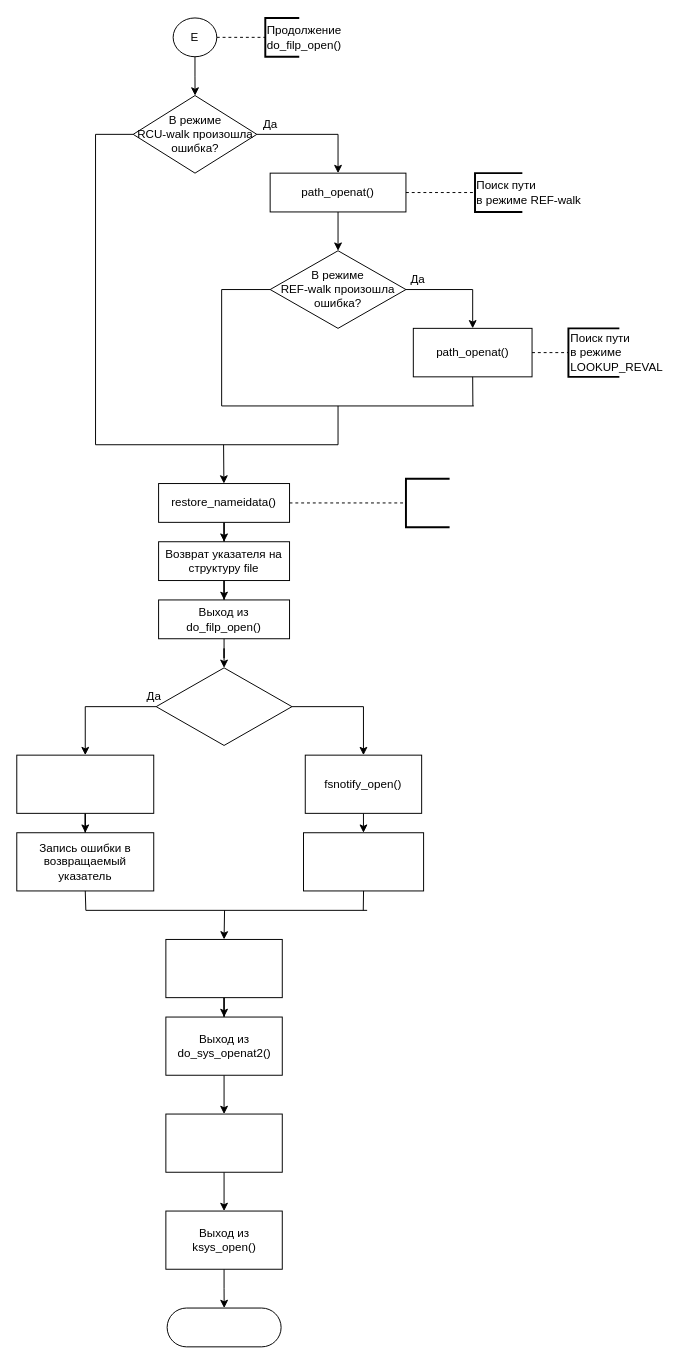
The diagram is 680 pixels wide and 1364 high, and some of its shapes have lost their labels. Each missing label, with the box of its shape:
fd_install(): (303, 832, 424, 891)
Возврат указателя на файловый дескриптор: (165, 938, 282, 998)
Возникла ошибка при открытии файла?: (155, 667, 292, 745)
Выход из do_sys_open(): (165, 1113, 282, 1172)
Запись структуры nameidata в контекст текущего процесса.: (404, 477, 450, 528)
Конец: (166, 1307, 281, 1347)
Освобождение файлового дескриптора функцией put_unused_fd: (16, 754, 154, 813)
